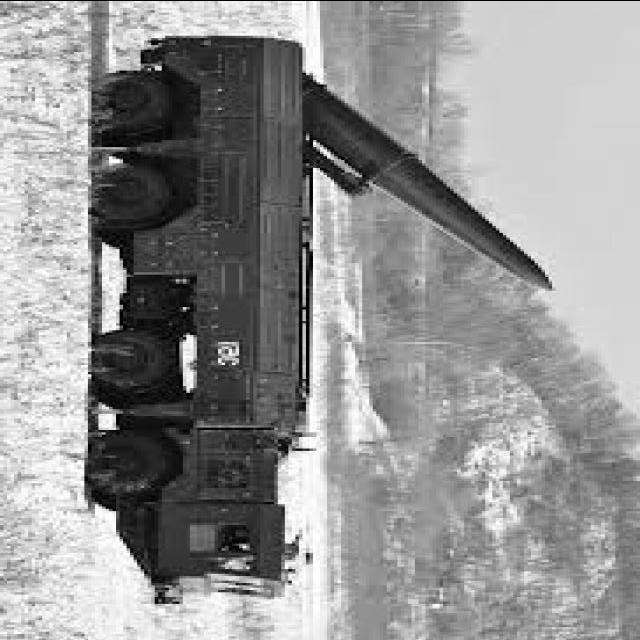Missile: (369, 148, 566, 293)
